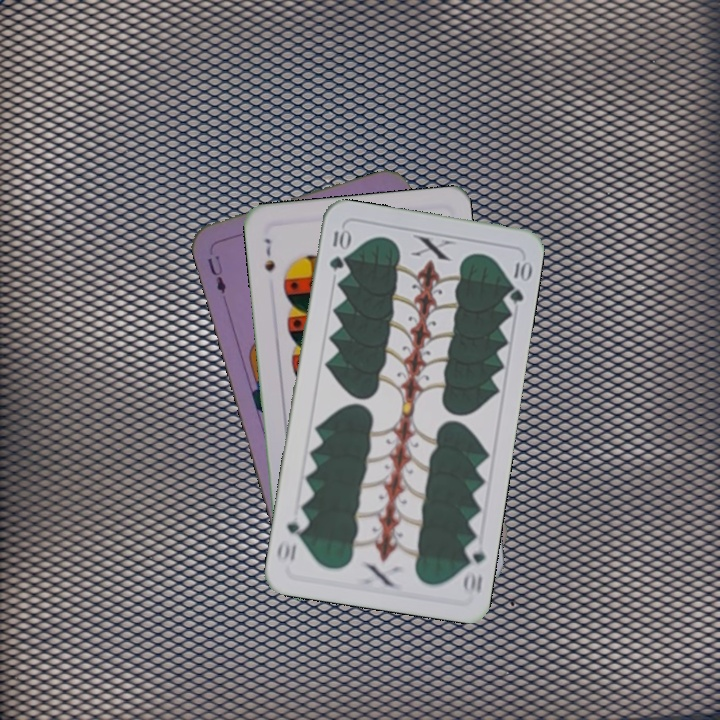EU: (203, 251, 229, 296)
G10: (459, 537, 488, 598), (325, 224, 351, 274)
S7: (260, 234, 277, 275)
